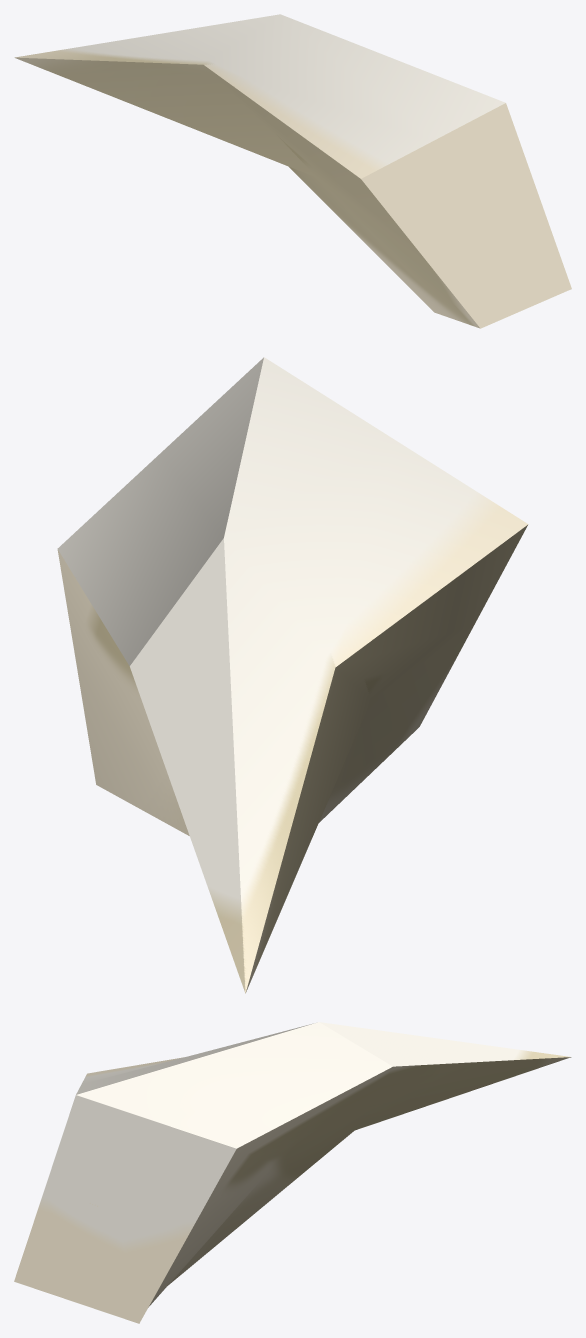
The model's file is Strand 3.fbx.
3 renders of one model, top to bottom at view 1: azimuth 30°, elevation 25°; view 2: azimuth 150°, elevation 25°; view 3: azimuth 270°, elevation 25°, orthographic. The views are drawn at different scales.
Parts seen in each view (by area): view 1: Strand 3_Baked; view 2: Strand 3_Baked; view 3: Strand 3_Baked.
Boxes of the visible parts, left/top/right/bottom form: Strand 3_Baked: left=14, top=14, right=571, bottom=328; Strand 3_Baked: left=57, top=357, right=528, bottom=993; Strand 3_Baked: left=14, top=1022, right=571, bottom=1323.
Size of the model in its own units: 21.55 by 17.59 by 35.78.
1 material, 1 textured.
